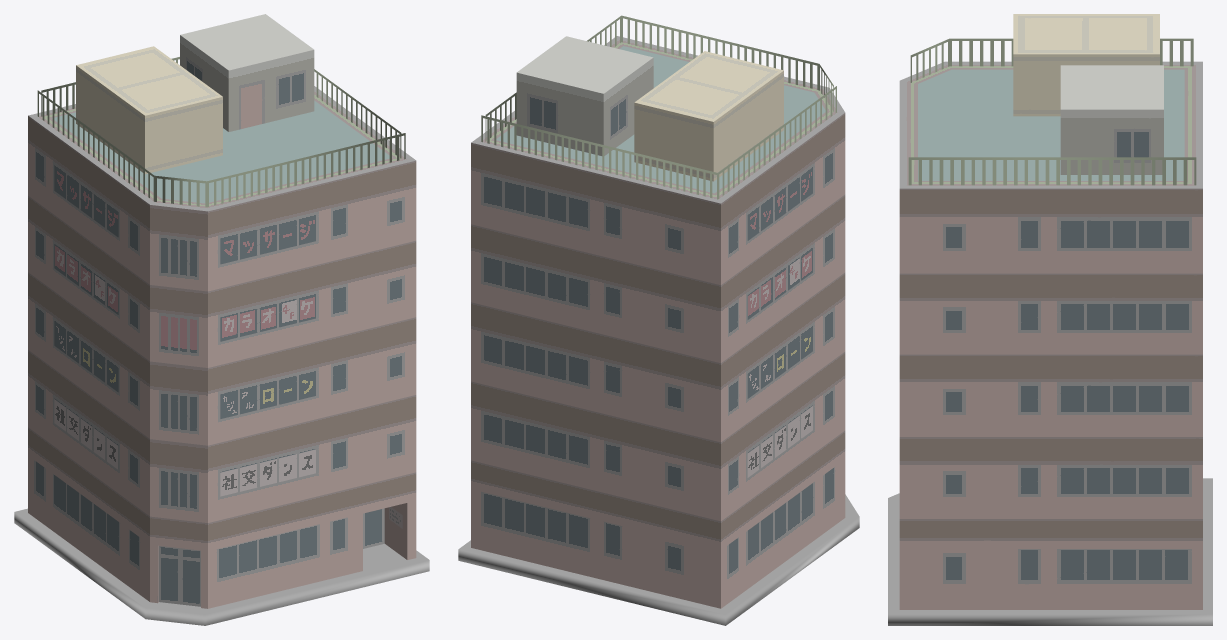
The model's file is 026d_Stingray_Building.glb.
3 renders of one model, left to right at view 1: azimuth 30°, elevation 25°; view 2: azimuth 150°, elevation 25°; view 3: azimuth 270°, elevation 25°, orthographic. The views are drawn at different scales.
Parts seen in each view (by area): view 1: part_0; view 2: part_0; view 3: part_0.
Part boxes in pixels (x1,y1,x2,y2): part_0: (14,14,429,625); part_0: (458,15,859,625); part_0: (888,14,1212,625).
Bounding box in the file's own units: 10.47 × 17.94 × 10.59.
Materials: 1 (1 with a texture image).
